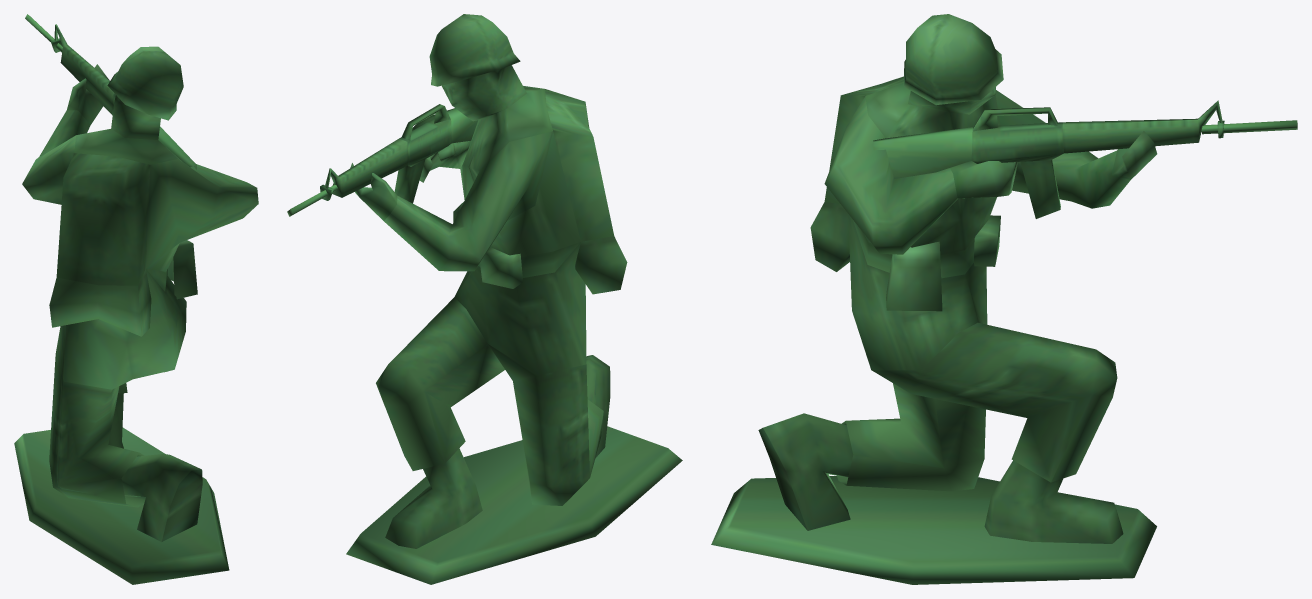
File: Icon1.ico.obj
The picture shows the model from 3 angles, left to right: view 1: azimuth 30°, elevation 25°; view 2: azimuth 150°, elevation 25°; view 3: azimuth 270°, elevation 25°; orthographic projection. The views are drawn at different scales.
Size of the model in its own units: 2.32 by 4.93 by 4.87.
1 material, 1 textured.
